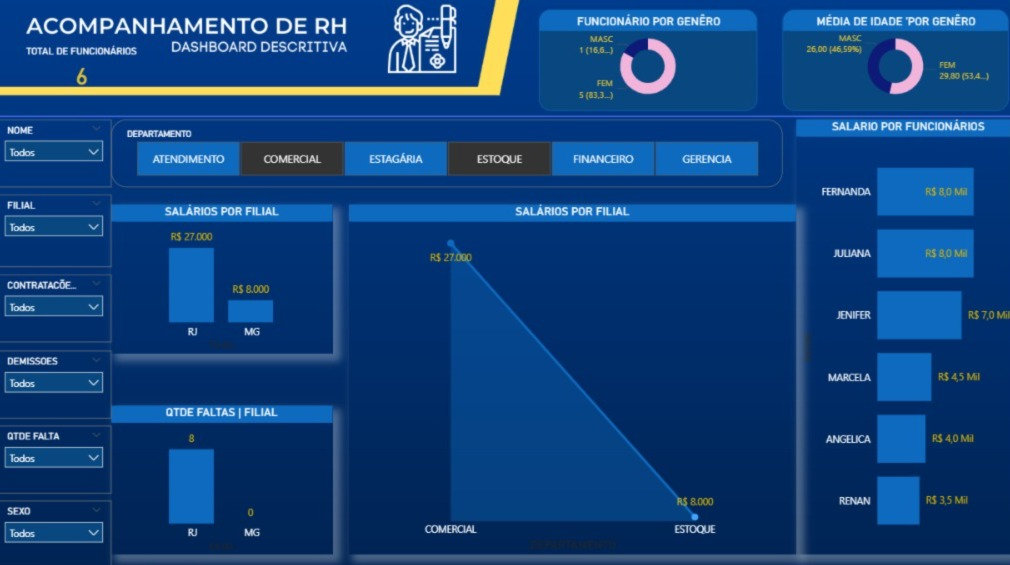

What the dashboard file says about the page in this screenshot:
{"tool":"powerbi","page":{"name":"Página 1","canvas":[1280,720],"ordinal":0},"visuals":[{"type":"barChart","title":"SALARIO POR FUNCIONÁRIOS","fields":{"Category":["Table_1.NOME"],"Y":["Sum(Table_1.SALARIO)"]},"box":[1000.3,159.4,279.8,543.9],"z":0},{"type":"columnChart","title":"QTDE FALTAS | FILIAL","fields":{"Category":["Table_1.FILIAL"],"Y":["Sum(Table_1.QTDE FALTA)"]},"box":[143.8,517.3,276.6,186],"z":1000},{"type":"columnChart","title":"SALÁRIOS POR FILIAL","fields":{"Y":["Sum(Table_1.SALARIO)"],"Category":["Table_1.FILIAL"]},"box":[143.8,265.7,276.6,186],"z":2000},{"type":"areaChart","title":"SALÁRIOS POR FILIAL","fields":{"Category":["Table_1.DEPARTAMENTO"],"Y":["Sum(Table_1.SALARIO)"]},"box":[440.8,265.7,559.5,437.6],"z":3000},{"type":"slicer","fields":{"Values":["Table_1.DEPARTAMENTO"]},"box":[143.8,159.4,839.3,84.4],"z":4000},{"type":"donutChart","title":"FUNCIONÁRIO POR GENÊRO","fields":{"Category":["Table_1.SEXO"],"Y":["CountNonNull(Table_1.SEXO)"]},"box":[678.3,21.9,273.5,126.6],"z":5000},{"type":"donutChart","title":"MÉDIA DE IDADE ''POR GENÊRO","fields":{"Category":["Table_1.SEXO"],"Y":["Avg(Table_1.IDADE)"]},"box":[983.1,21.9,282.9,126.6],"z":6000},{"type":"slicer","fields":{"Values":["Table_1.NOME"]},"box":[0,159.4,143.8,84.4],"z":7000},{"type":"slicer","fields":{"Values":["Table_1.FILIAL"]},"box":[0,253.5,143.8,90.7],"z":8000},{"type":"slicer","fields":{"Values":["Table_1.CONTRATACÕES FEITAS"]},"box":[0,353.9,143.8,84.4],"z":9000},{"type":"slicer","fields":{"Values":["Table_1.DEMISSOES"]},"box":[0,448,143.8,84.4],"z":10000},{"type":"slicer","fields":{"Values":["Table_1.QTDE FALTA"]},"box":[0,542,143.8,84.4],"z":11000},{"type":"slicer","fields":{"Values":["Table_1.SEXO"]},"box":[0,635.6,143.8,84.4],"z":12000},{"type":"card","title":"TOTAL DE FUNCIONÁRIOS","fields":{"Values":["Count(Table_1.ID)"]},"box":[0,67.2,212.6,57.8],"z":12001}]}

Visuals, with their boxes in screenshot pixels (x1, y1, x2, y2), scaled from the page's 1280x720 canvas onto the 1010x565 screenshot:
"SALARIO POR FUNCIONÁRIOS" barChart: l=789, t=125, r=1009, b=552
"QTDE FALTAS | FILIAL" columnChart: l=113, t=406, r=332, b=552
"SALÁRIOS POR FILIAL" columnChart: l=113, t=209, r=332, b=354
"SALÁRIOS POR FILIAL" areaChart: l=348, t=209, r=789, b=552
slicer - Table_1.DEPARTAMENTO: l=113, t=125, r=776, b=191
"FUNCIONÁRIO POR GENÊRO" donutChart: l=535, t=17, r=751, b=117
"MÉDIA DE IDADE ''POR GENÊRO" donutChart: l=776, t=17, r=999, b=117
slicer - Table_1.NOME: l=0, t=125, r=113, b=191
slicer - Table_1.FILIAL: l=0, t=199, r=113, b=270
slicer - Table_1.CONTRATACÕES FEITAS: l=0, t=278, r=113, b=344
slicer - Table_1.DEMISSOES: l=0, t=352, r=113, b=418
slicer - Table_1.QTDE FALTA: l=0, t=425, r=113, b=492
slicer - Table_1.SEXO: l=0, t=499, r=113, b=564
"TOTAL DE FUNCIONÁRIOS" card: l=0, t=53, r=168, b=98
